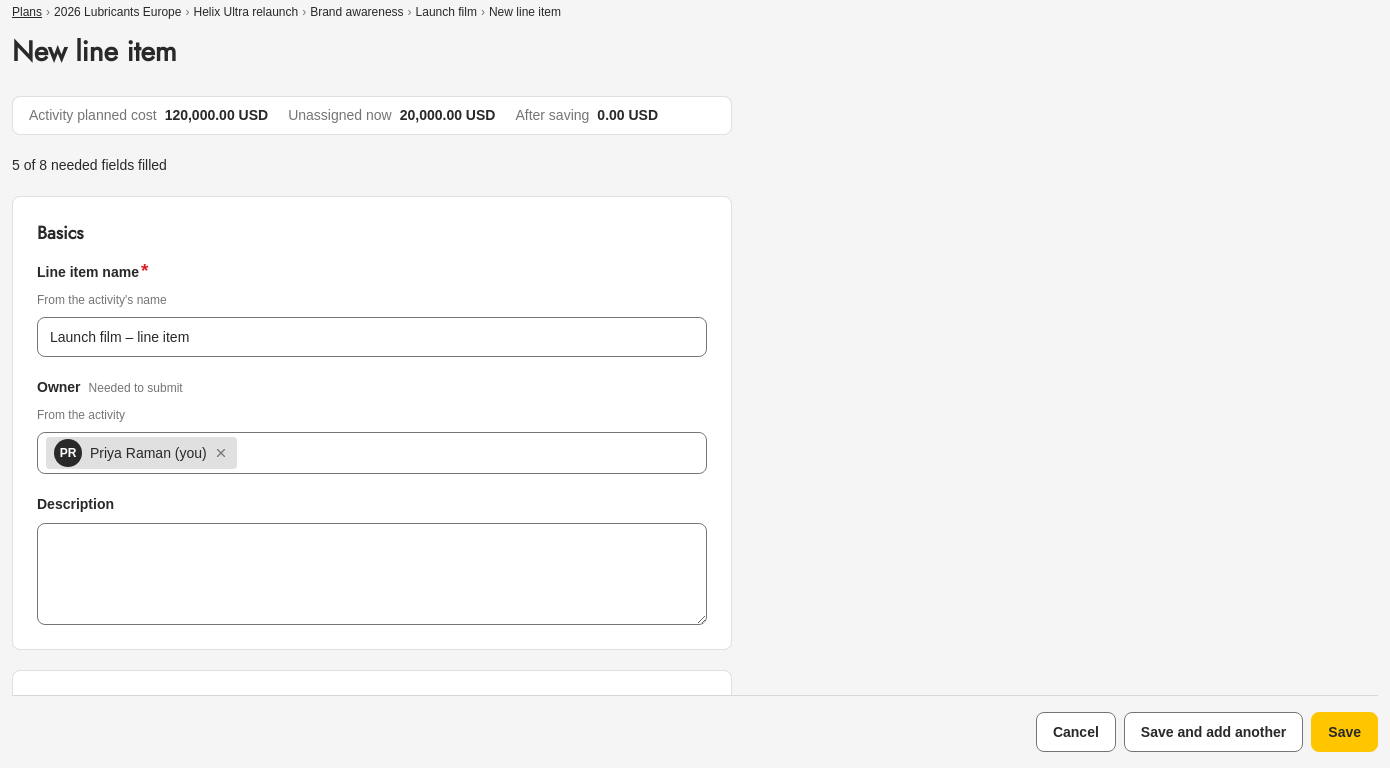
it: LineItemCreatePage, saving (US2) › opens a new form with the new balance after Save and add another (scenario 7)
Click the button "Save and add another" at (1214, 732), box [1124, 712, 1303, 752]
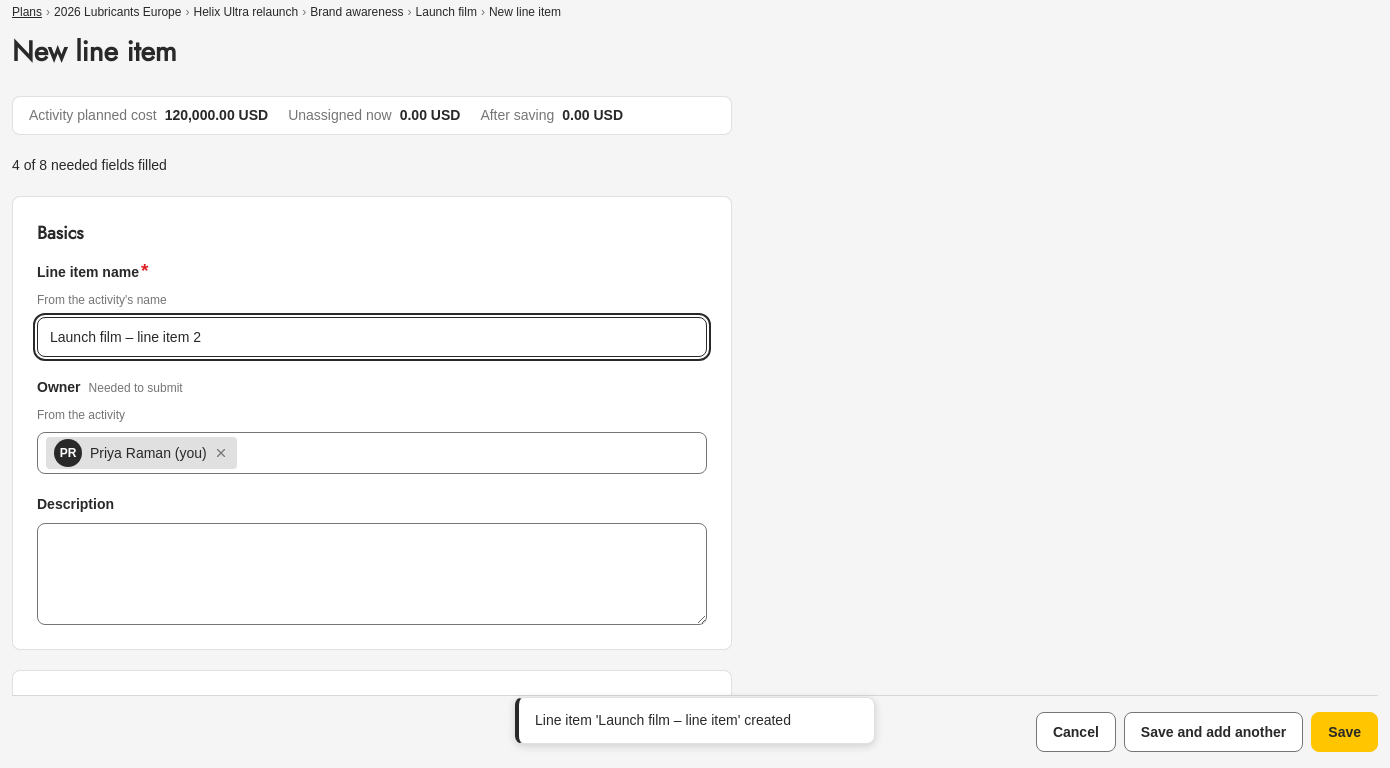
Result: the field labelled "Line item name" holds "Launch film – line item 2" at [37, 317, 707, 357]
